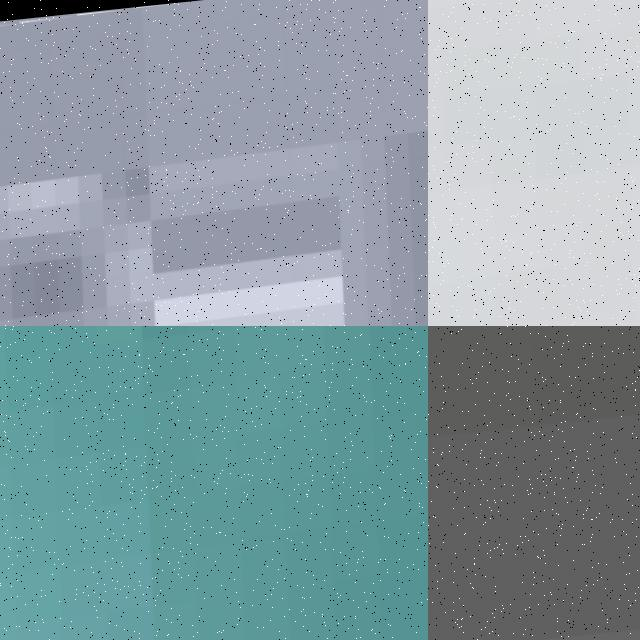drone: (0, 0, 428, 326), (0, 326, 428, 640), (428, 0, 640, 326)
